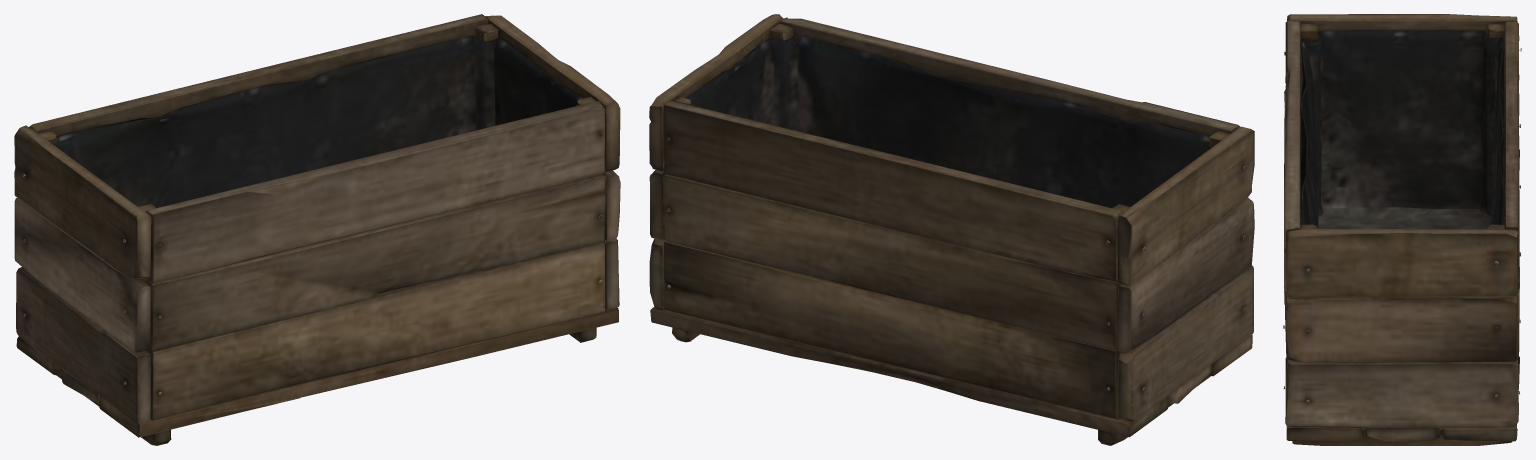
The model's file is planter.glb.
3 views of the same model, side by side, from view 1: azimuth 30°, elevation 25°; view 2: azimuth 150°, elevation 25°; view 3: azimuth 270°, elevation 25° (orthographic). The views are drawn at different scales.
Visible parts, largest first — view 1: planter_box_01; view 2: planter_box_01; view 3: planter_box_01.
Part boxes in pixels (bbox=[...]): planter_box_01: bbox=[14, 14, 620, 445]; planter_box_01: bbox=[649, 14, 1254, 445]; planter_box_01: bbox=[1283, 14, 1521, 445].
Bounding box in the file's own units: 0.9132 × 0.4255 × 0.4141.
1 material, 1 textured.
